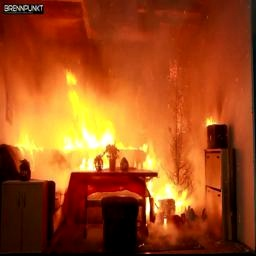fire: (6, 56, 182, 188)
